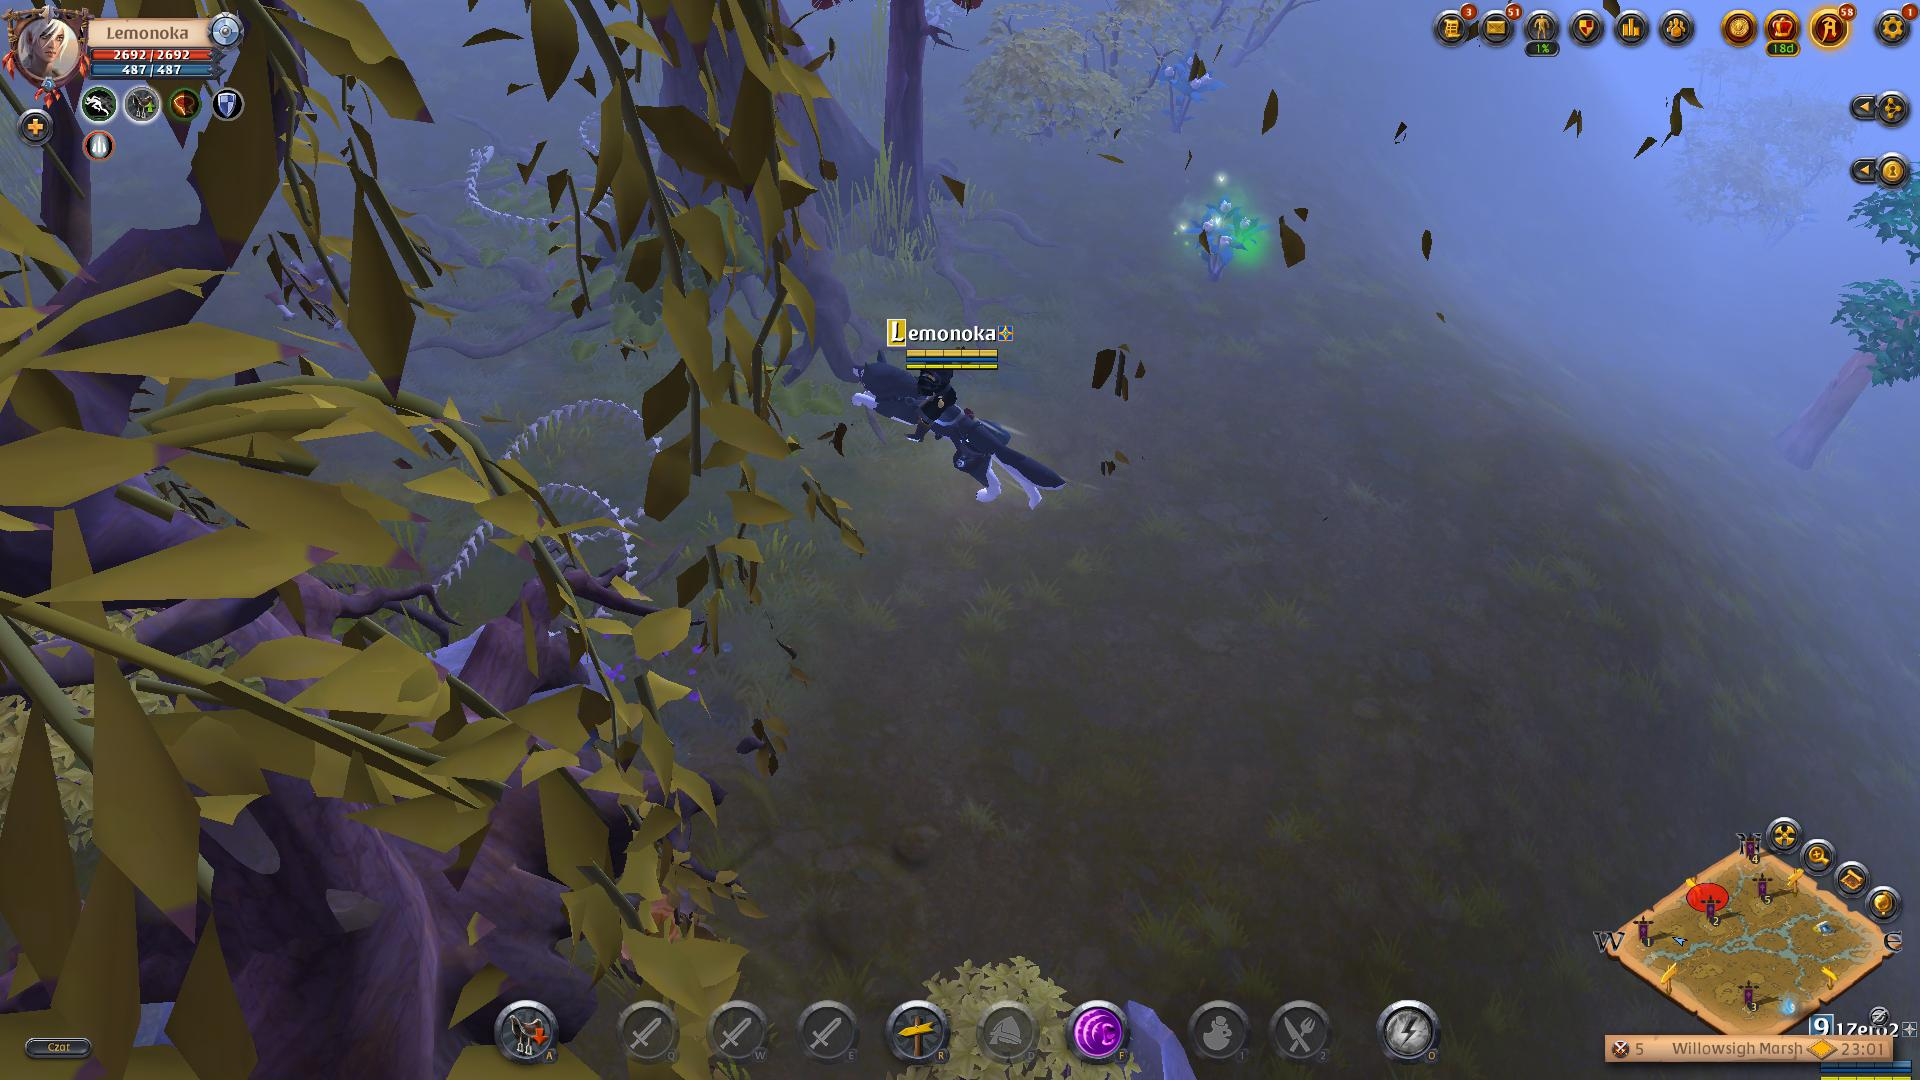fiber tier 4: (1180, 185, 1271, 282)
